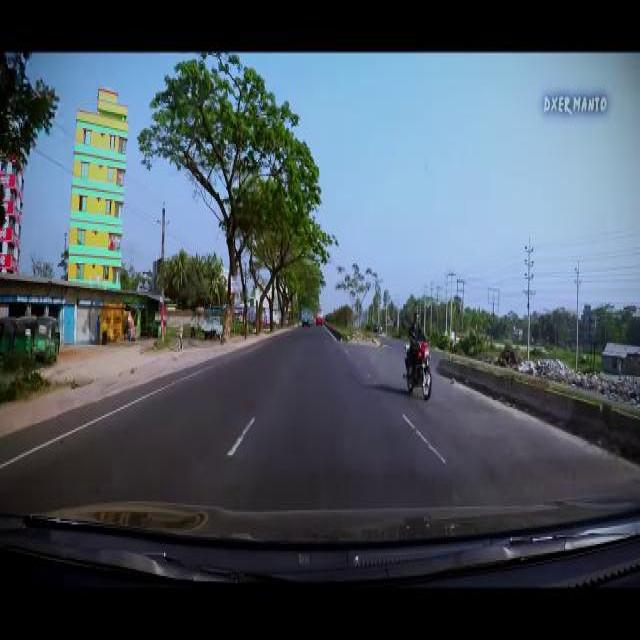bus: (314, 306, 322, 322)
motorbike: (403, 338, 433, 398)
pickup: (200, 315, 222, 336)
three wheelers -CNG-: (32, 315, 59, 361), (12, 315, 36, 353)
truck: (300, 308, 310, 326)
